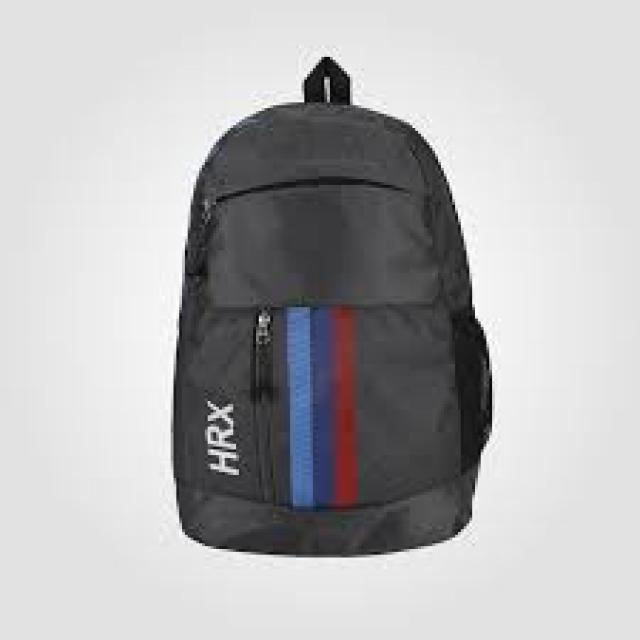backpack: (169, 55, 493, 559)
